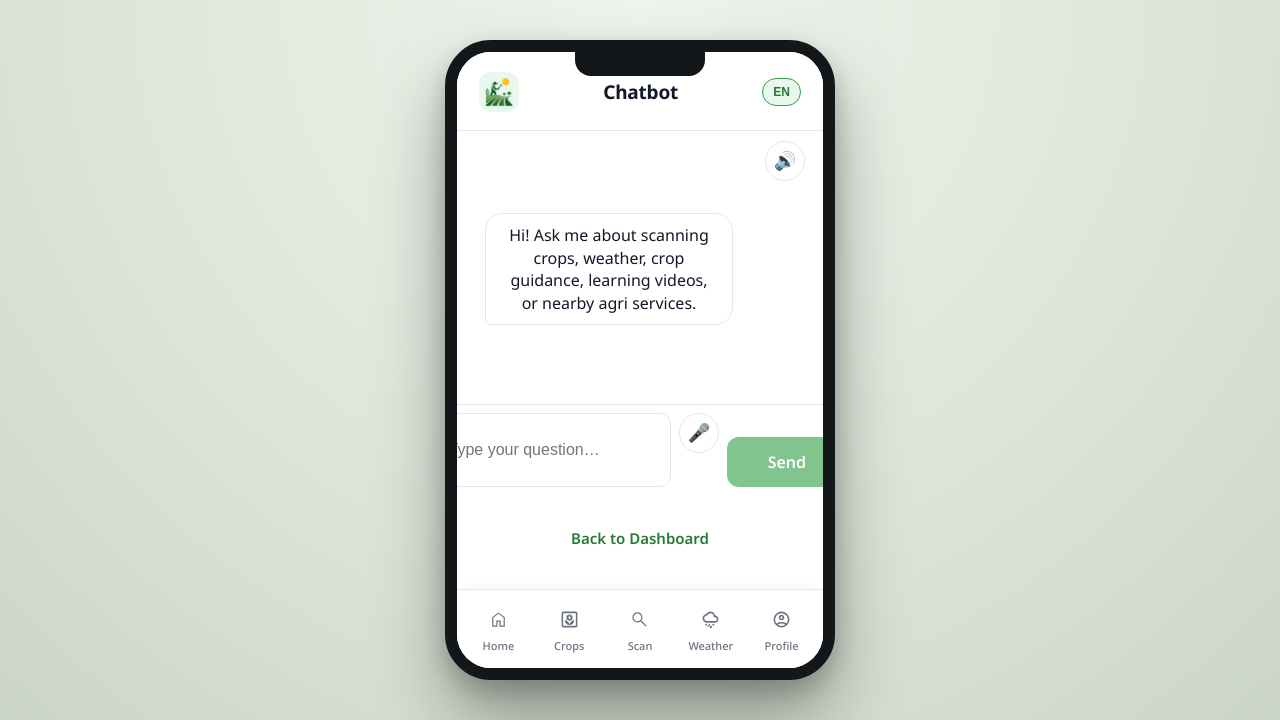
Test: ChatbotPage › shows the graceful fallback reply for an unrecognized/gibberish message
The image size is (1280, 720).
Type "asdkjhaskjdhqwepoiqwe" into the field with placeholder "Type your question…" at (552,450), box [433,412,671,486]
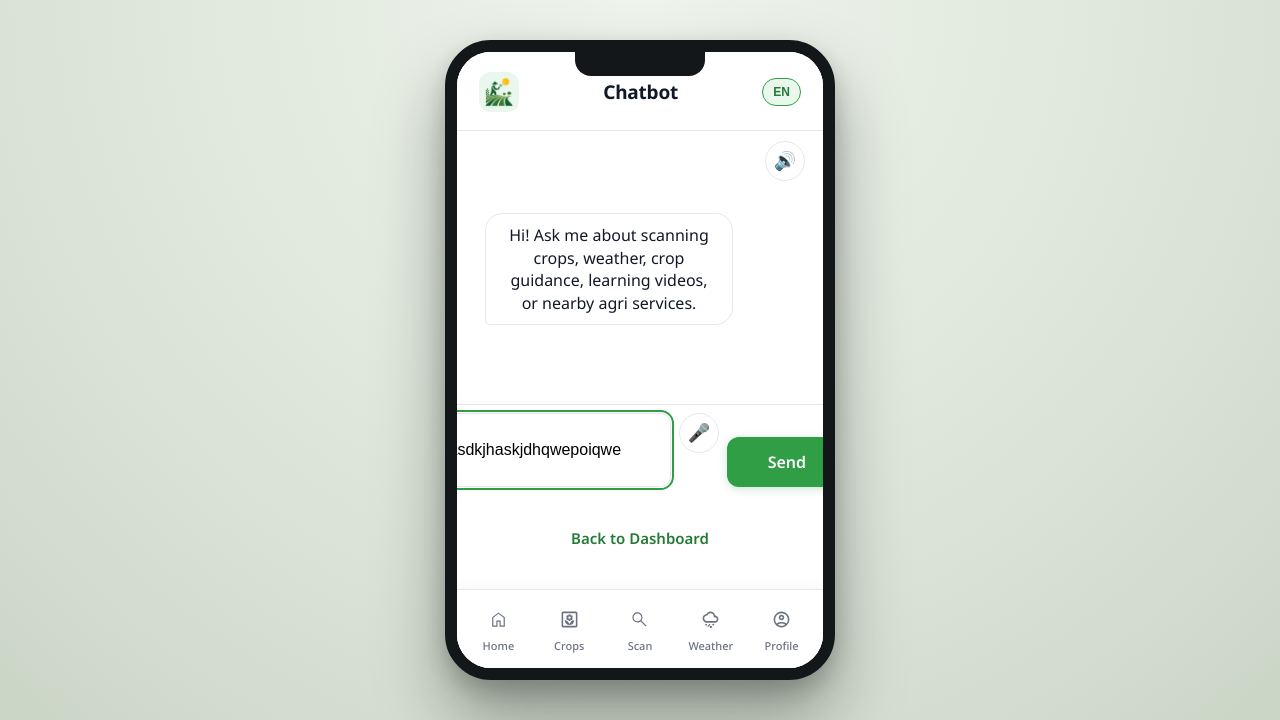
Click the button "Send" at (787,462), box [727,436,847,486]
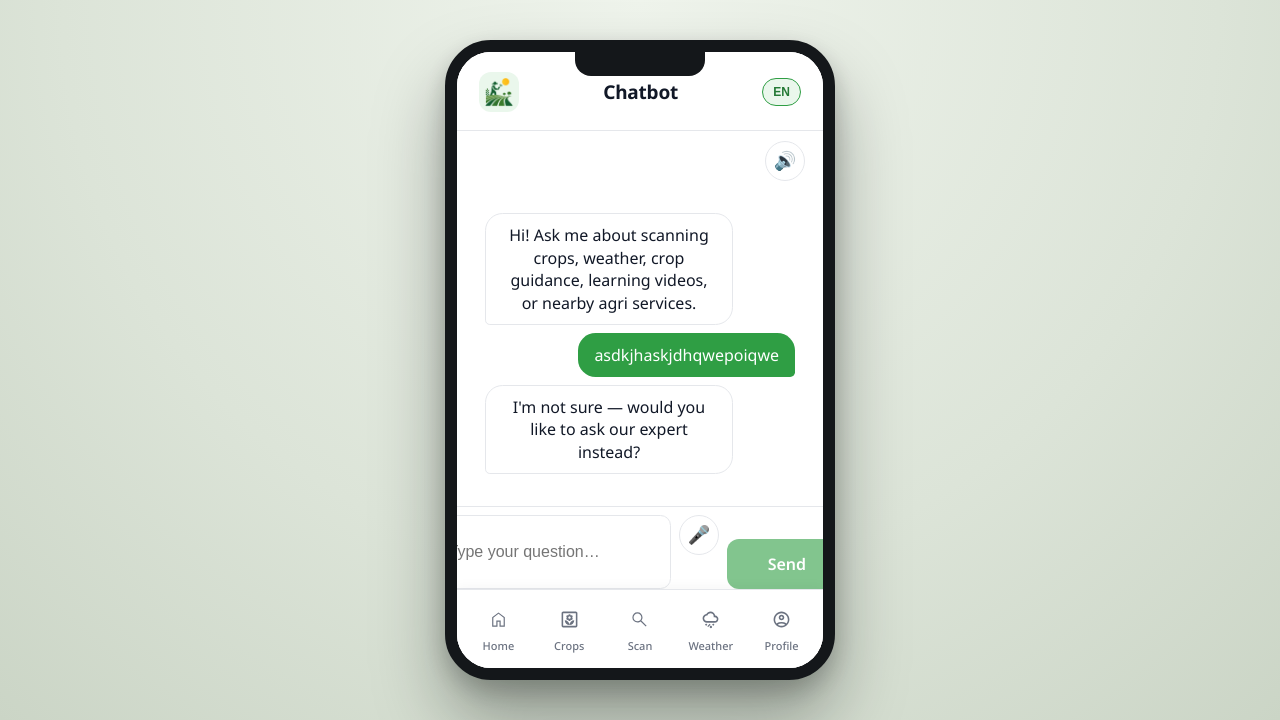
Check: the text "I'm not sure — would you like to ask our expert instead?" is shown, box [485,384,733,474]
